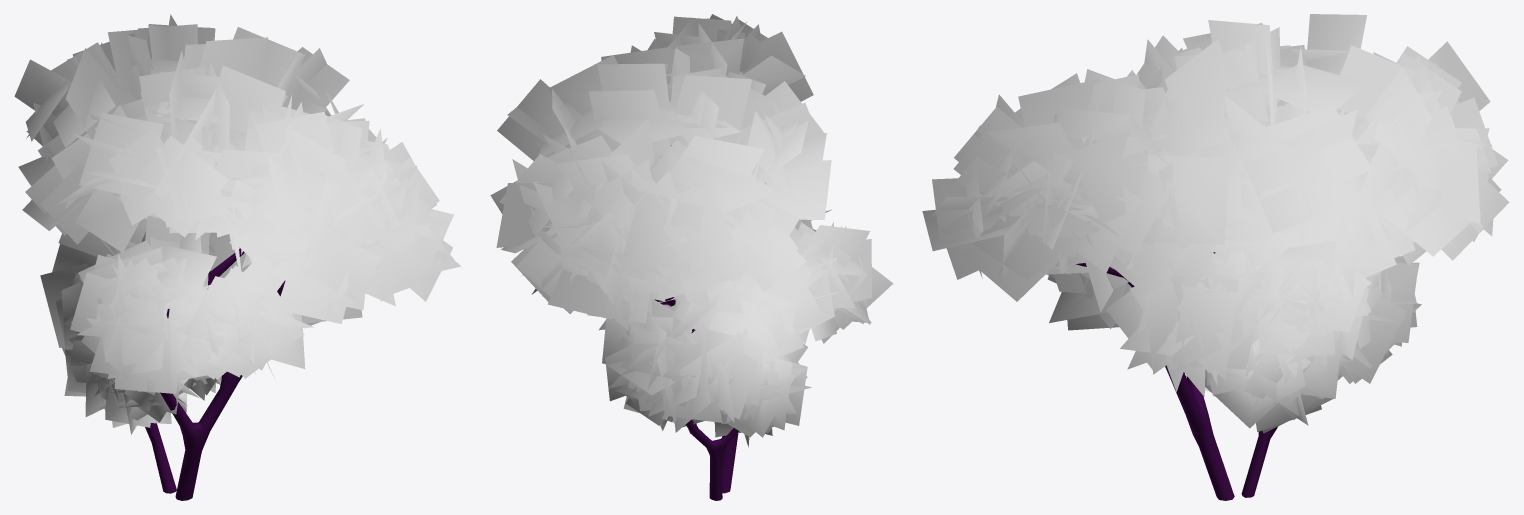
The model's file is m_TreeSmall3_LOD0.fbx.
3 views of the same model, side by side, from view 1: azimuth 30°, elevation 25°; view 2: azimuth 150°, elevation 25°; view 3: azimuth 270°, elevation 25° (orthographic). The views are drawn at different scales.
Visible parts, largest first — view 1: TreeSmall3_LOD0; view 2: TreeSmall3_LOD0; view 3: TreeSmall3_LOD0.
Boxes of the visible parts, <box> form: TreeSmall3_LOD0: <box>14,14,461,500</box>; TreeSmall3_LOD0: <box>490,14,893,500</box>; TreeSmall3_LOD0: <box>922,14,1509,500</box>.
Bounding box in the file's own units: 919 × 1167 × 1277.
